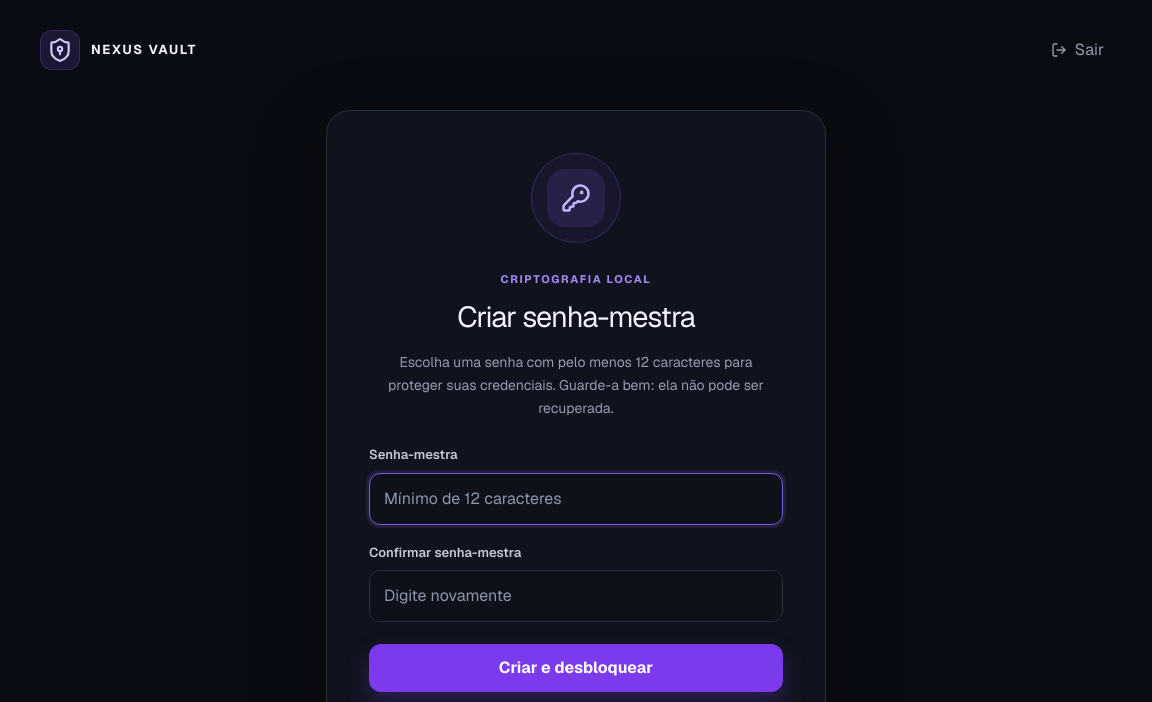
Test: UnlockScreen › requires a strong master password on first setup
This screenshot has width=1152, height=702.
expect the heading "Criar senha-mestra" is shown: met, box [457, 298, 695, 336]
Type "curta" into the password field labelled "Senha-mestra". click: coordinates (576, 499)
box: [369, 473, 783, 525]
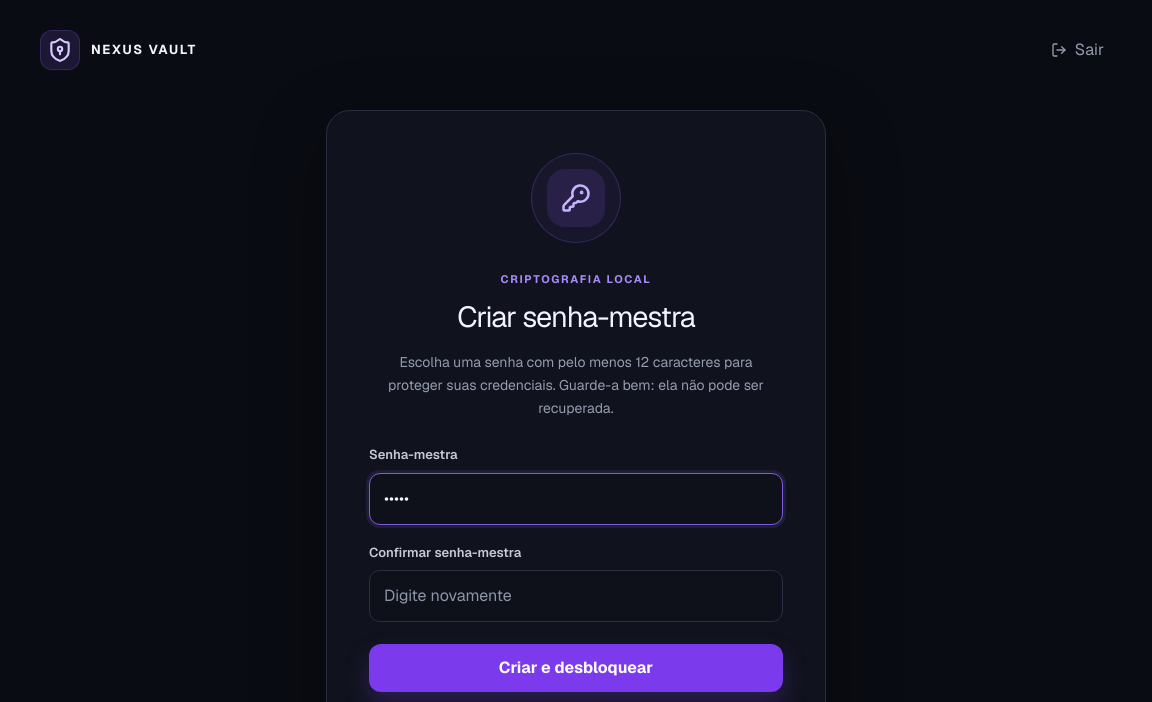
Click the button "Criar e desbloquear". click: coordinates (576, 668)
box: [369, 644, 783, 692]
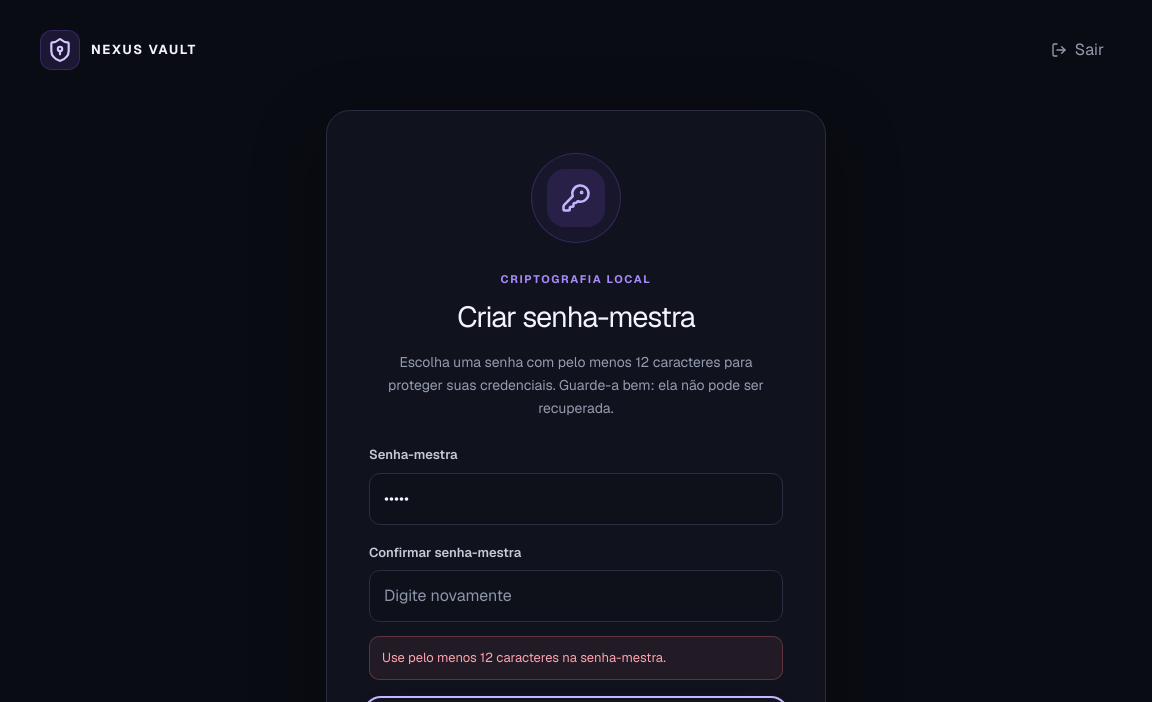
expect the message shows "pelo menos 12 caracteres": met, box [382, 649, 666, 666]
